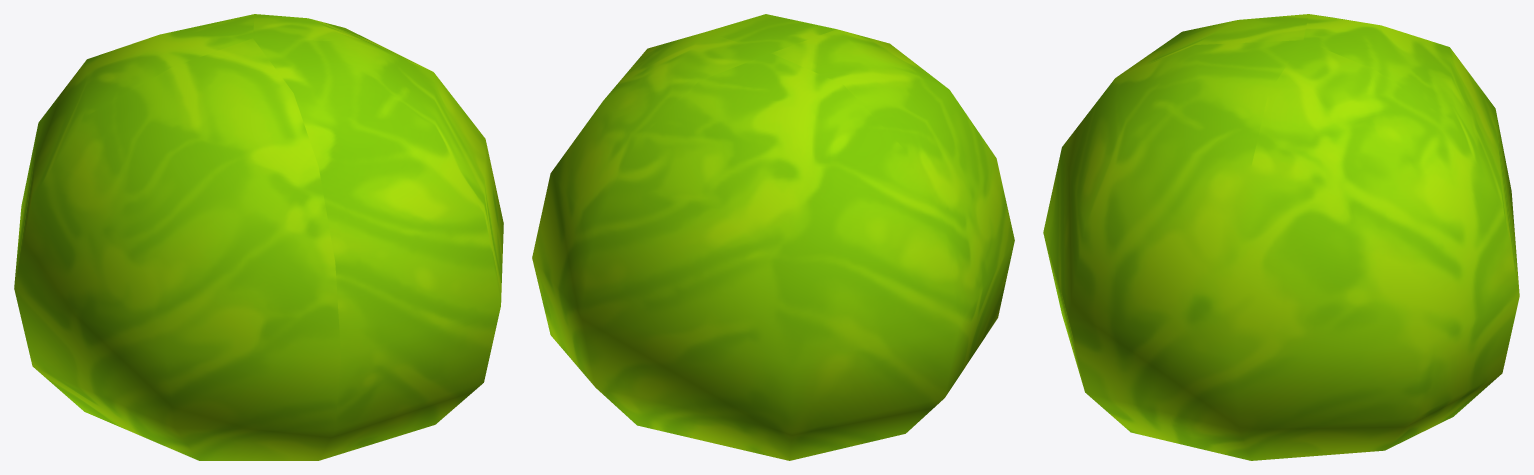
Rendered from Vegetables01_4.FBX.
3 views of the same model, side by side, from view 1: azimuth 30°, elevation 25°; view 2: azimuth 150°, elevation 25°; view 3: azimuth 270°, elevation 25° (orthographic). The views are drawn at different scales.
Visible parts, largest first — view 1: Vegetables01_4; view 2: Vegetables01_4; view 3: Vegetables01_4.
Boxes of the visible parts, x1,y1,x2,y2 form: Vegetables01_4: [14, 14, 503, 460]; Vegetables01_4: [532, 14, 1014, 460]; Vegetables01_4: [1043, 14, 1519, 460].
Size of what is drawn, in the model's own units: 0.2936 by 0.2425 by 0.2801.
